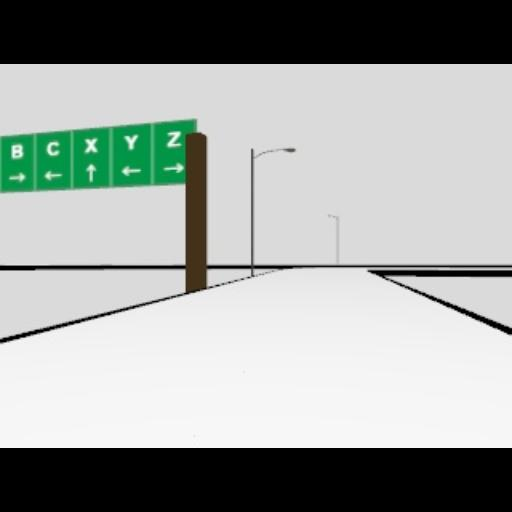B: (10, 142, 22, 158)
C: (46, 141, 60, 155)
Left: (120, 164, 140, 176), (44, 170, 62, 180)
Right: (164, 162, 184, 172), (8, 171, 26, 181)
Straight: (84, 164, 96, 182)
X: (83, 138, 97, 152)
Y: (123, 133, 137, 149)
Z: (165, 129, 183, 147)
